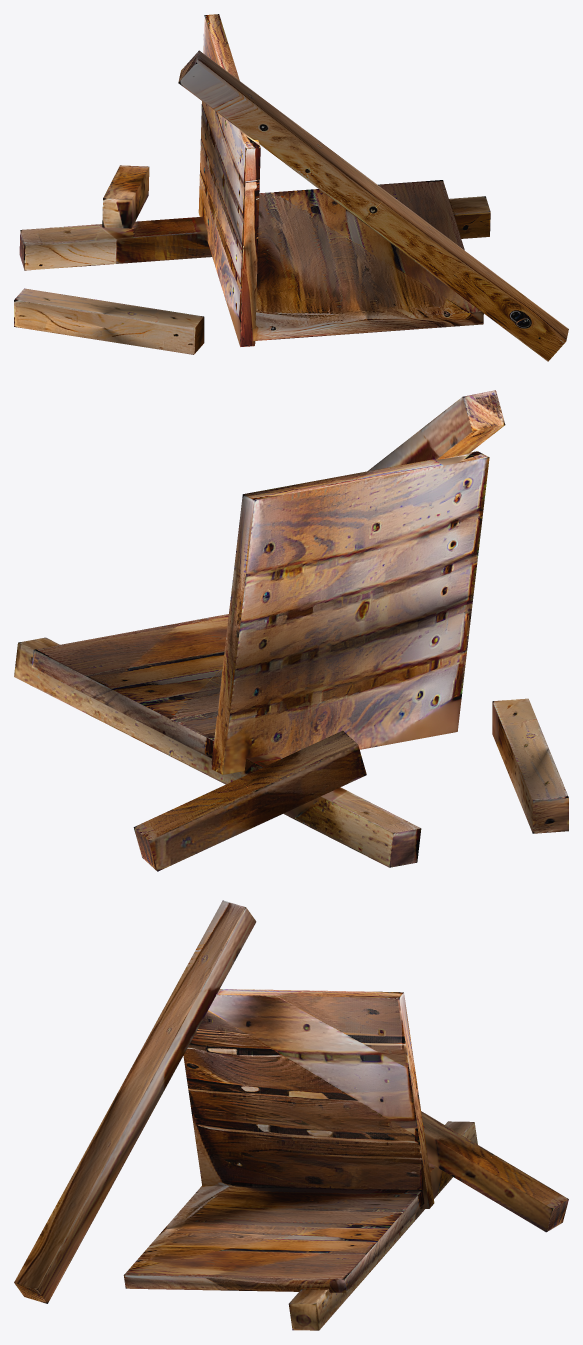
File: broken chair.glb
The picture shows the model from 3 angles, top to bottom: view 1: azimuth 30°, elevation 25°; view 2: azimuth 150°, elevation 25°; view 3: azimuth 270°, elevation 25°; orthographic projection. The views are drawn at different scales.
Size of the model in its own units: 17.94 by 10.79 by 19.31.
Materials: 1 (1 with a texture image).
